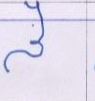ai_matra: (25, 2, 48, 19)
